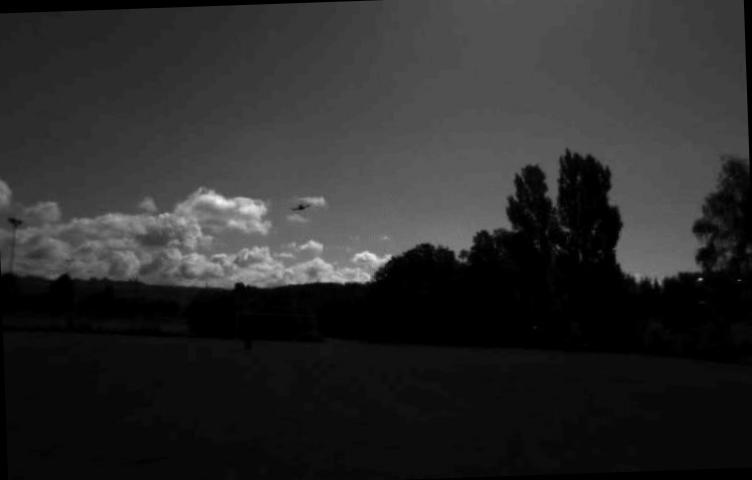drone: (290, 199, 311, 213)
